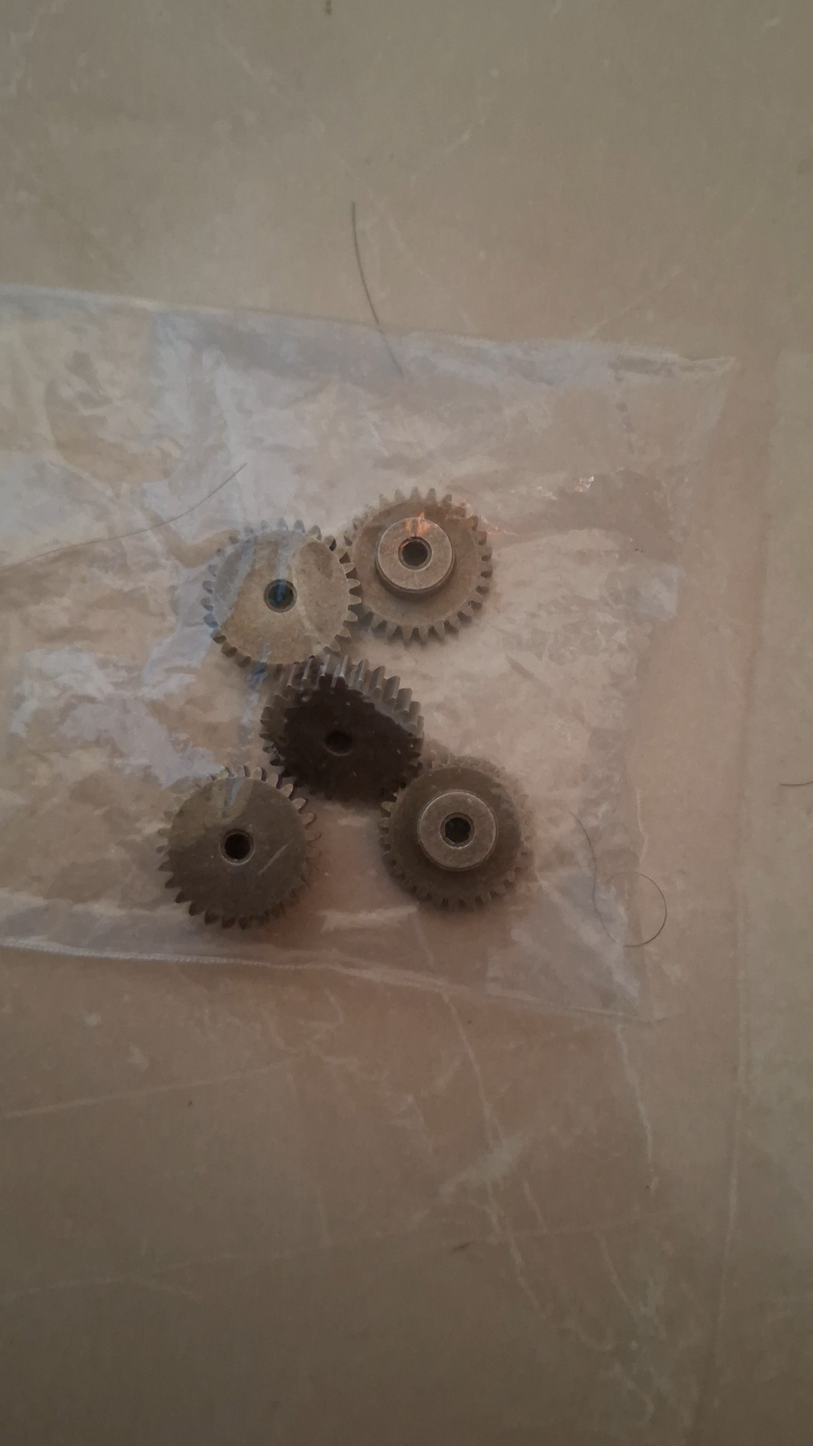spur gear: (159, 769, 315, 927), (203, 520, 359, 676), (262, 656, 422, 802), (380, 758, 528, 907), (347, 489, 492, 641)
